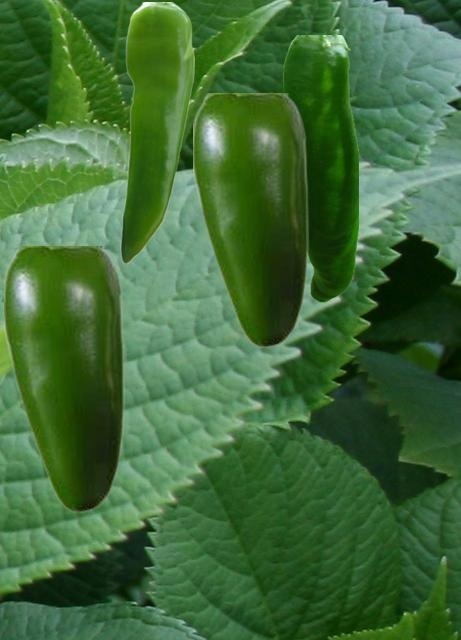green_chili: (4, 246, 123, 512), (193, 93, 307, 347), (283, 35, 357, 301), (120, 2, 193, 262)
